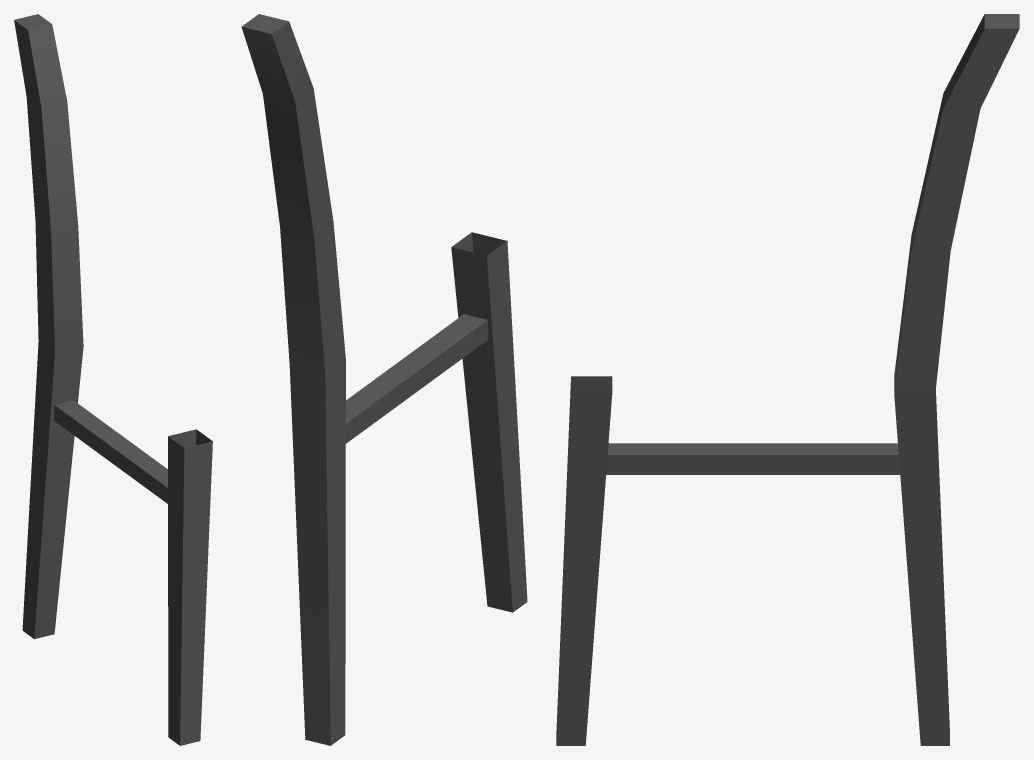
Rendered from Itr_Chair3_Leg_Left_04.FBX.
3 views of the same model, side by side, from view 1: azimuth 30°, elevation 25°; view 2: azimuth 150°, elevation 25°; view 3: azimuth 270°, elevation 25° (orthographic). The views are drawn at different scales.
Visible parts, largest first — view 1: Itr_Chair3_Leg_Left_04; view 2: Itr_Chair3_Leg_Left_04; view 3: Itr_Chair3_Leg_Left_04.
Boxes of the visible parts, box(x1,y1,x2,y2) form: Itr_Chair3_Leg_Left_04: box(14, 14, 212, 745); Itr_Chair3_Leg_Left_04: box(241, 14, 527, 745); Itr_Chair3_Leg_Left_04: box(556, 14, 1019, 745).
Bounding box in the file's own units: 3.08 × 39.55 × 22.7.
